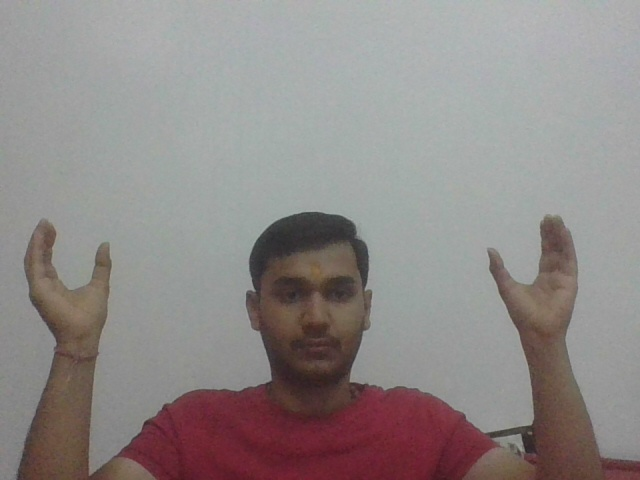U: (485, 211, 583, 341), (20, 213, 119, 336)
